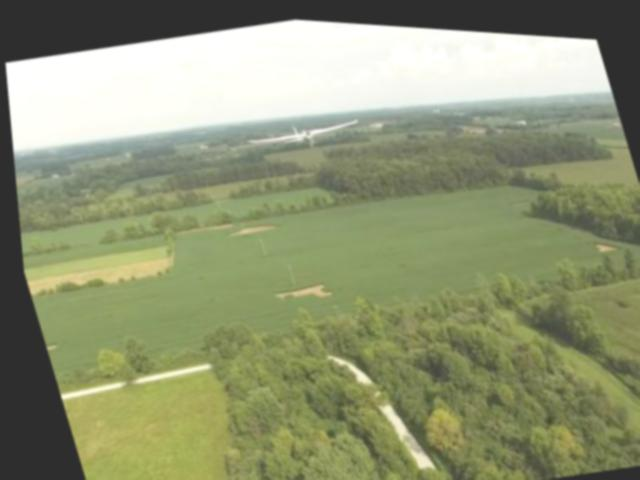uav: (228, 95, 370, 169)
